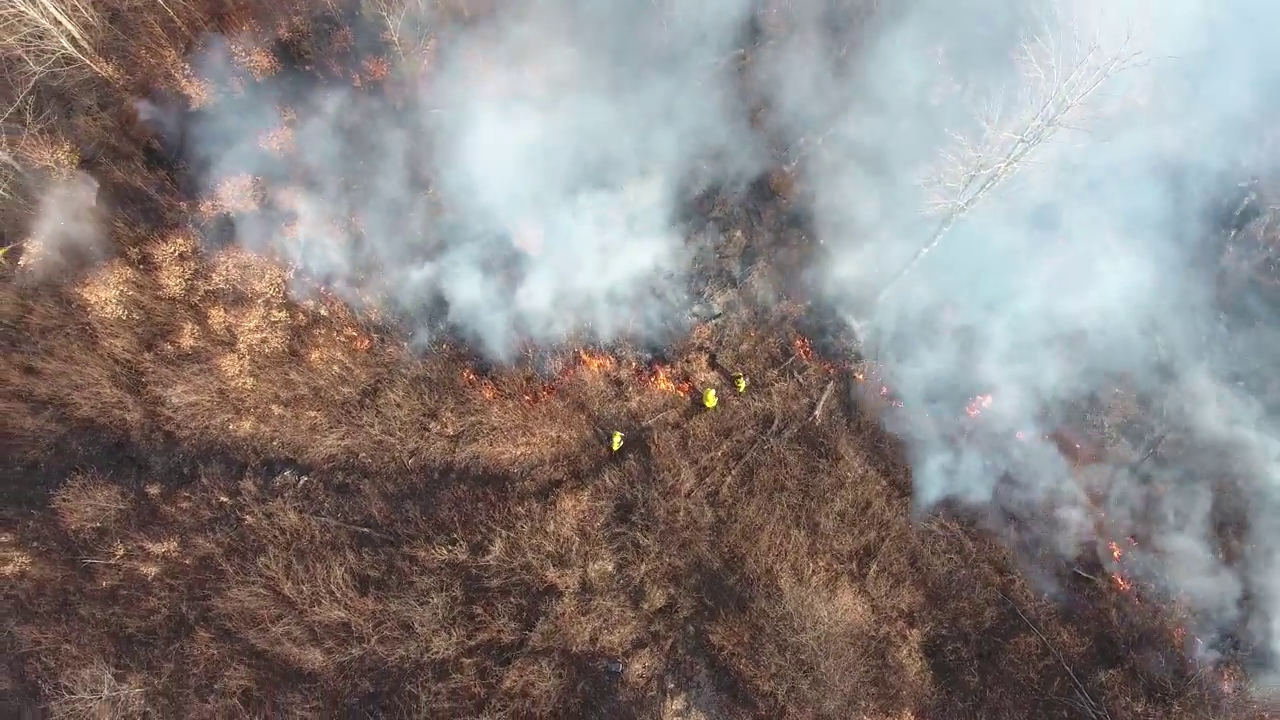forest_fire: (1103, 535, 1141, 597), (632, 363, 693, 397), (578, 350, 621, 372), (784, 337, 815, 367), (964, 393, 993, 416), (812, 389, 833, 419), (876, 383, 901, 407), (852, 369, 878, 388)
